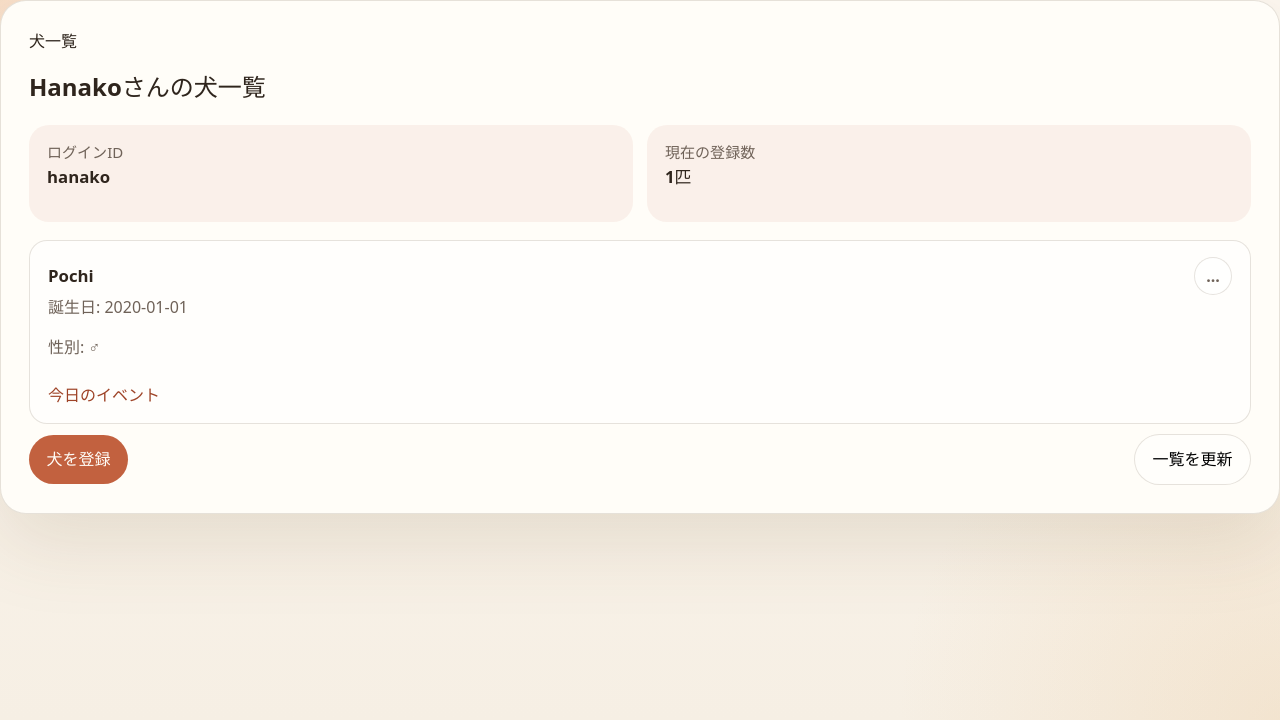
DogListView › 犬プロフィール更新フォームで入力エラーがある場合は犬更新APIを呼ばない
Click the button named "Pochiのメニュー" at (1213, 276), box [1194,256,1232,294]
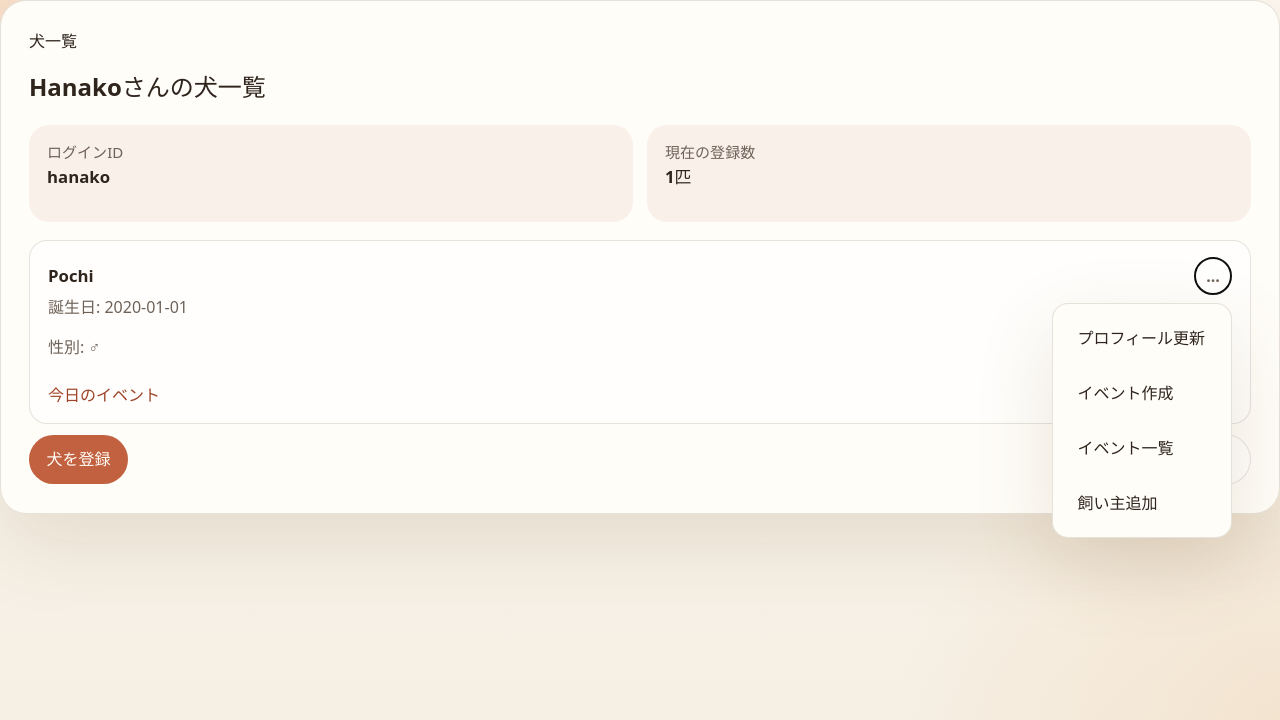
Click the menu item "プロフィール更新" at (1142, 338), box [1063,314,1221,362]
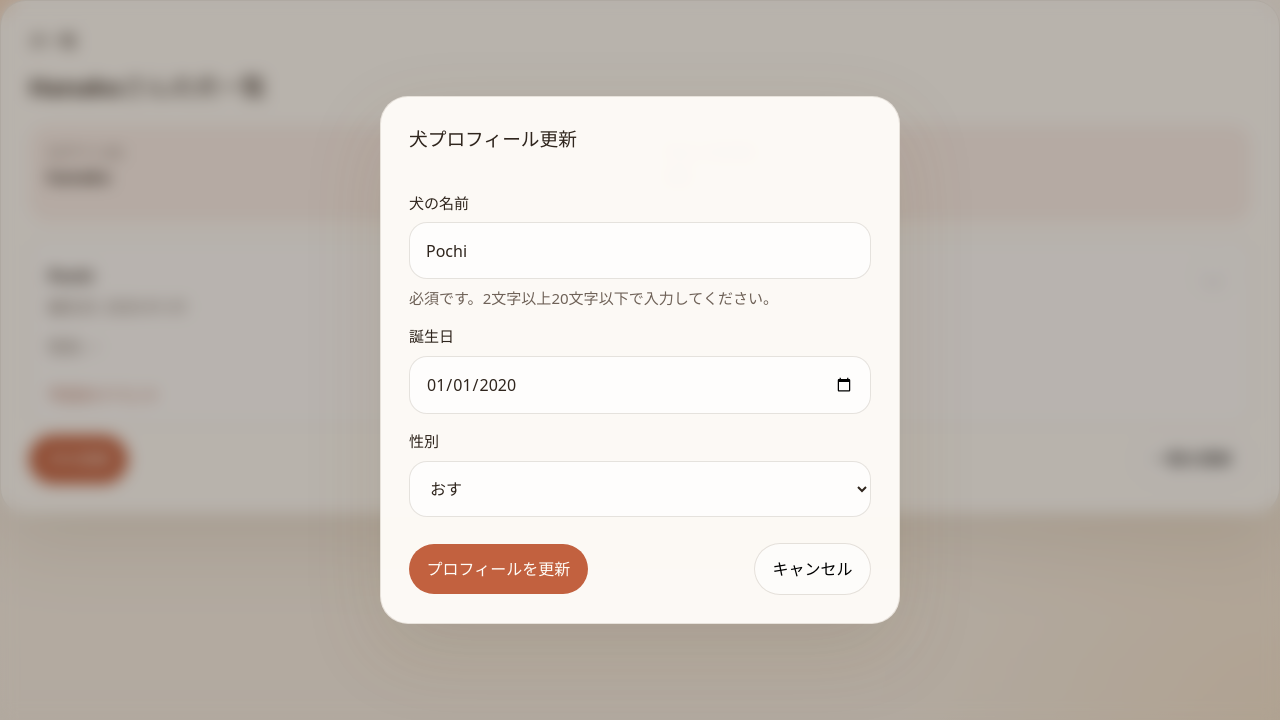
Clear the field labelled "犬の名前" at (640, 251), box [409,222,871,279]
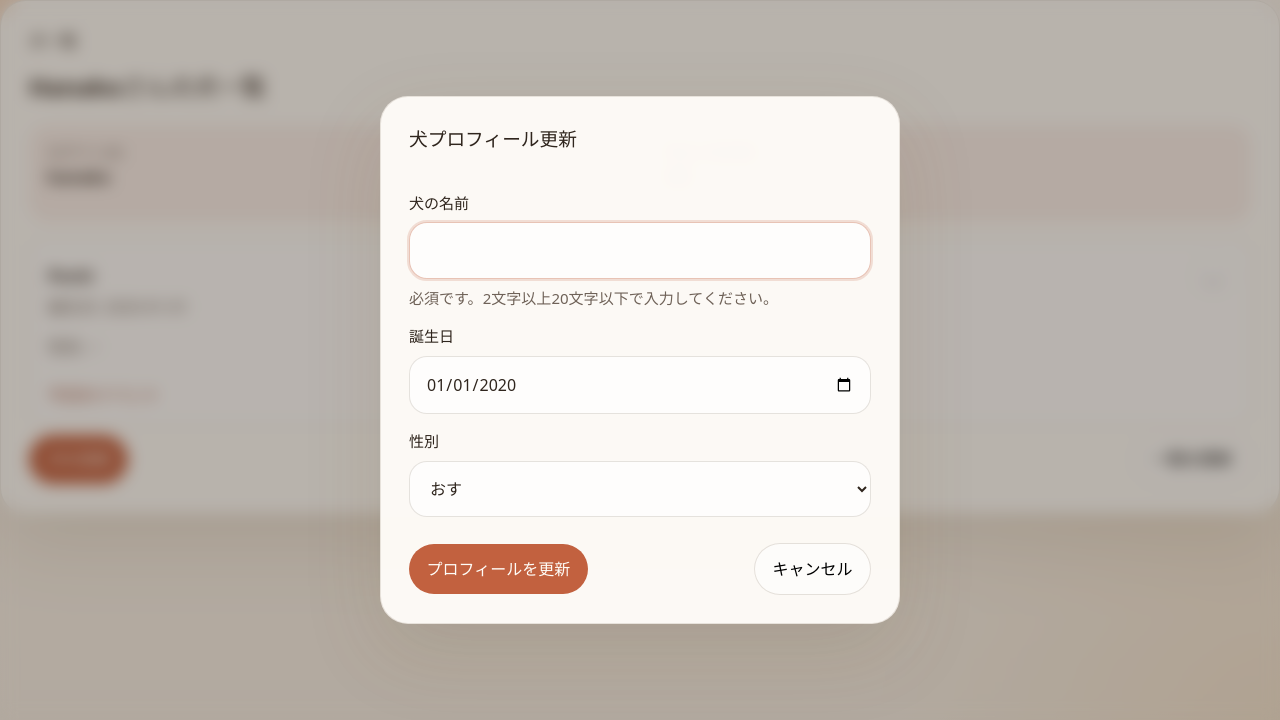
Click the button "プロフィールを更新" at (498, 569), box [409,544,588,594]
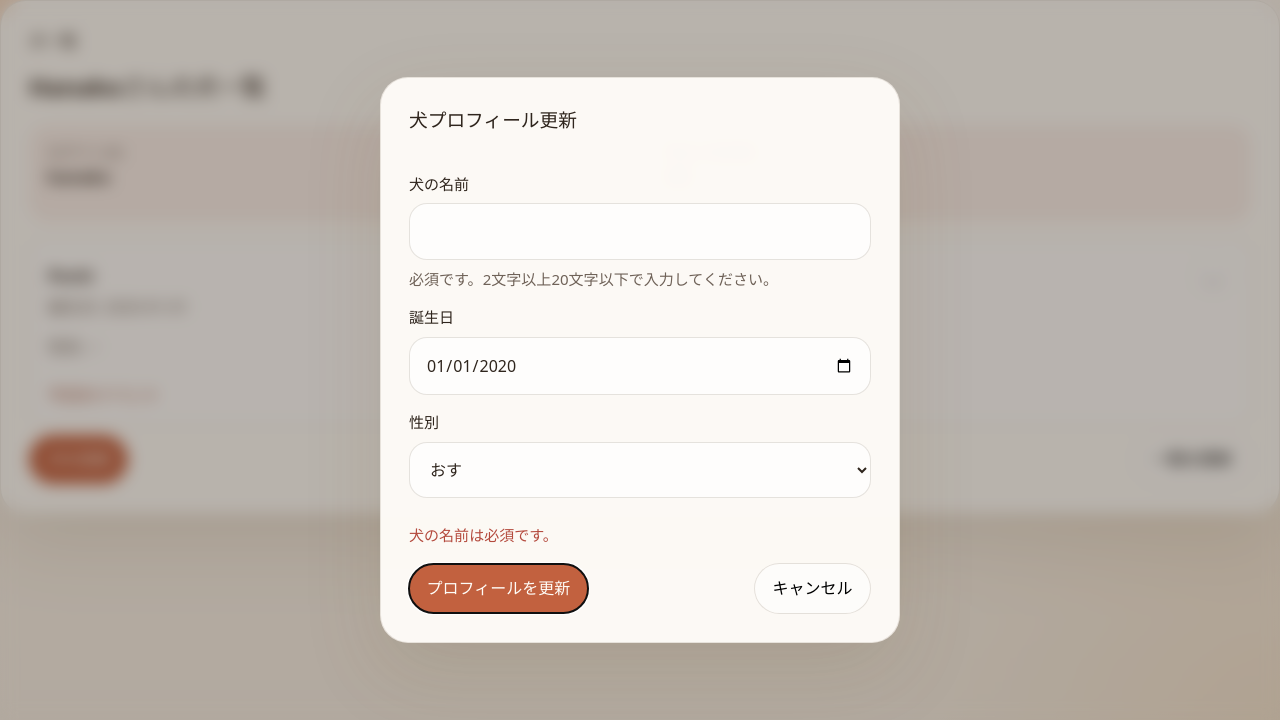
expect the text "犬の名前は必須です。" is shown: met, box [409,525,558,545]
